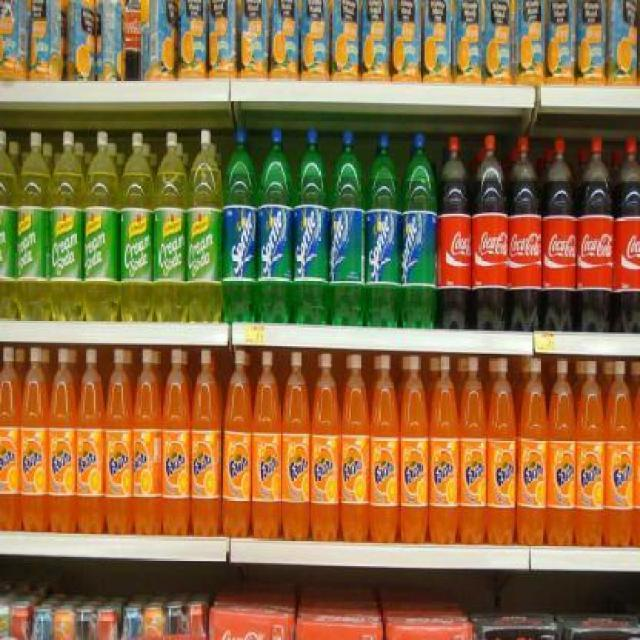Drinks: (576, 133, 616, 332), (400, 130, 438, 330), (330, 127, 367, 326), (222, 129, 260, 322), (293, 128, 330, 324), (472, 133, 508, 332), (366, 130, 402, 328), (259, 127, 295, 324), (541, 138, 577, 332), (438, 134, 472, 330), (508, 136, 542, 332), (190, 349, 222, 537), (222, 348, 253, 538), (428, 354, 459, 544), (340, 354, 371, 543), (310, 352, 341, 540), (252, 349, 282, 540), (576, 358, 606, 547), (518, 358, 548, 546), (48, 347, 78, 533), (370, 353, 399, 544), (400, 354, 429, 544), (488, 357, 517, 546), (547, 358, 576, 546), (281, 351, 310, 538), (20, 346, 49, 532), (133, 348, 162, 534), (606, 358, 634, 548), (162, 348, 190, 536), (459, 356, 487, 544), (105, 348, 133, 534), (78, 349, 106, 534), (0, 346, 20, 531)
